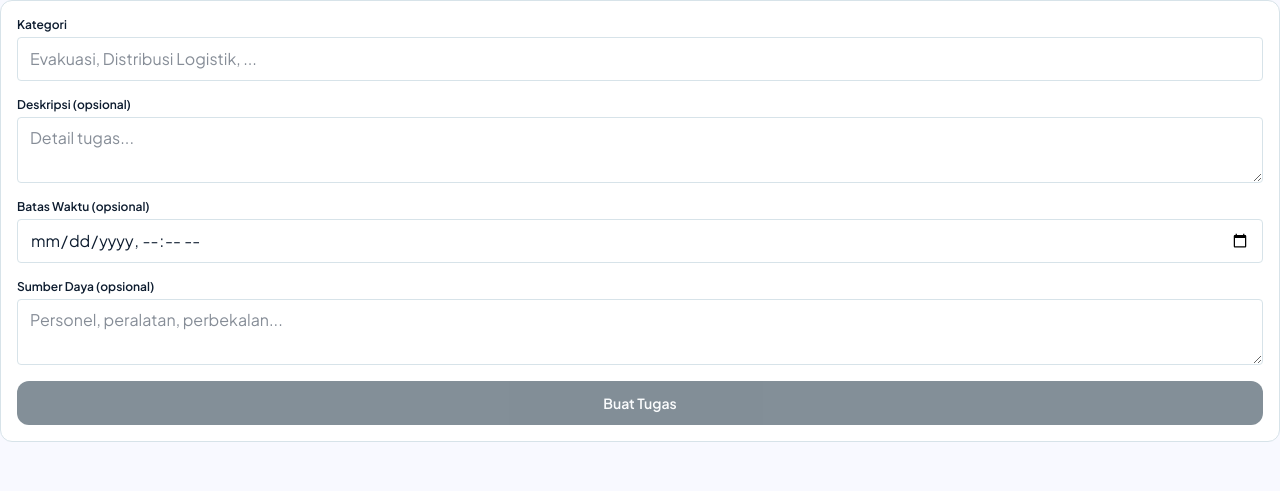
CreateTaskForm › shows an error message and does not navigate when the create request fails
Type "Evakuasi" into the field with placeholder "Evakuasi, Distribusi Logistik, ...".
click(640, 59); type("Evakuasi")  # box [17,37,1263,81]
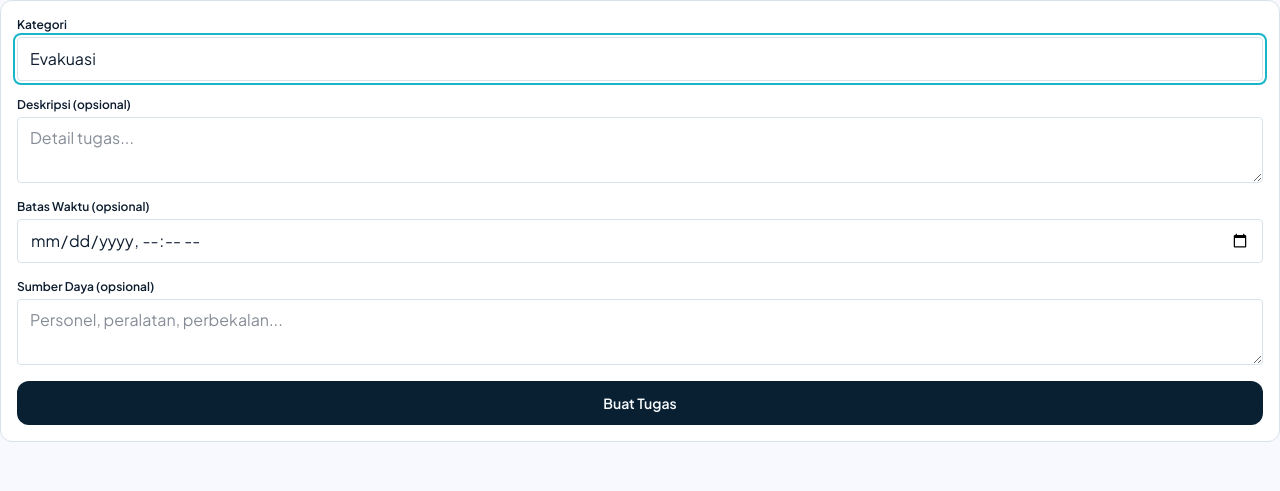
Click the button "Buat Tugas".
click(640, 403)  # box [17,381,1263,425]
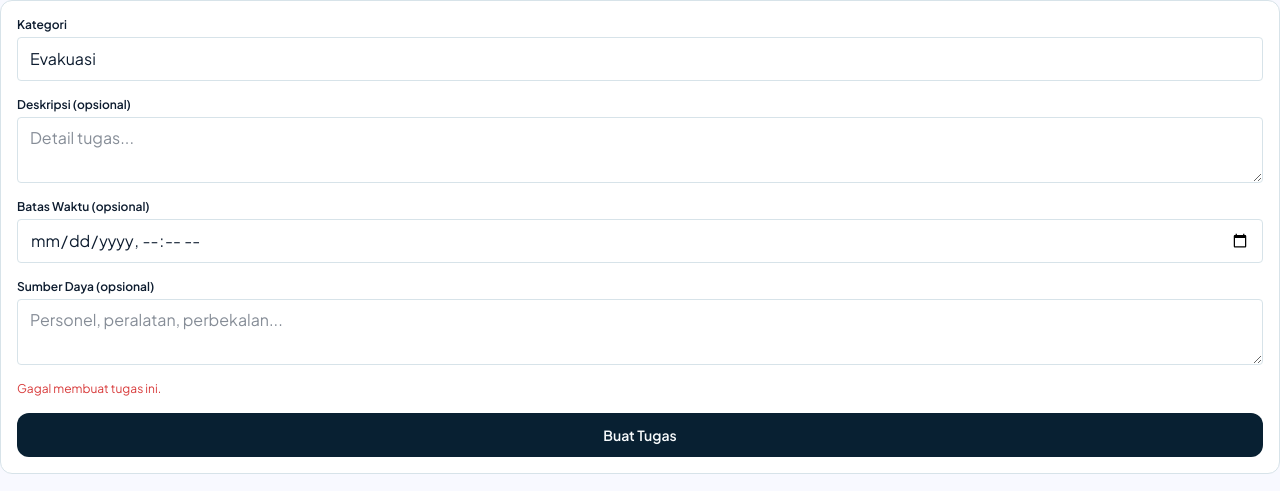
Expected: the text "Gagal membuat tugas ini." is shown, [17,381,161,396]
